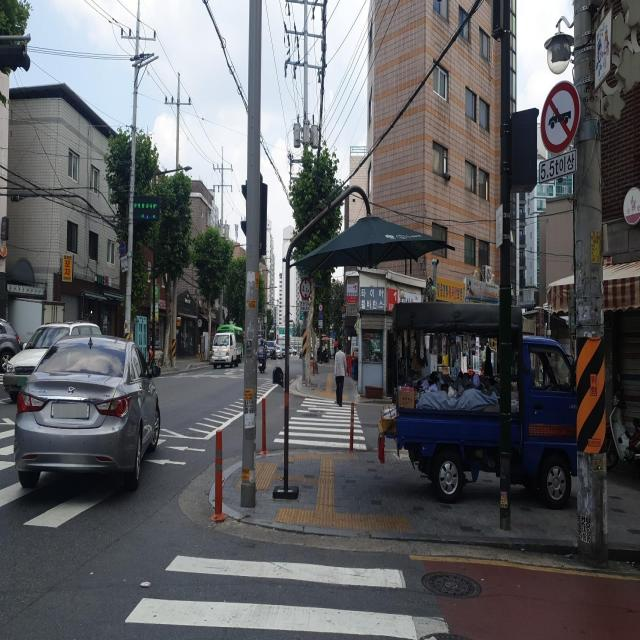횡단보도: (124, 554, 417, 640), (0, 430, 169, 528), (270, 394, 371, 446)
